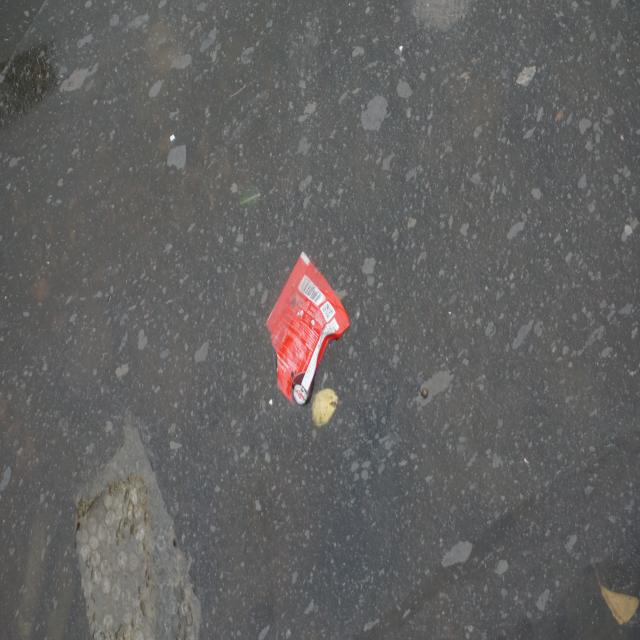Bungkus Minuman: (268, 238, 354, 413)
